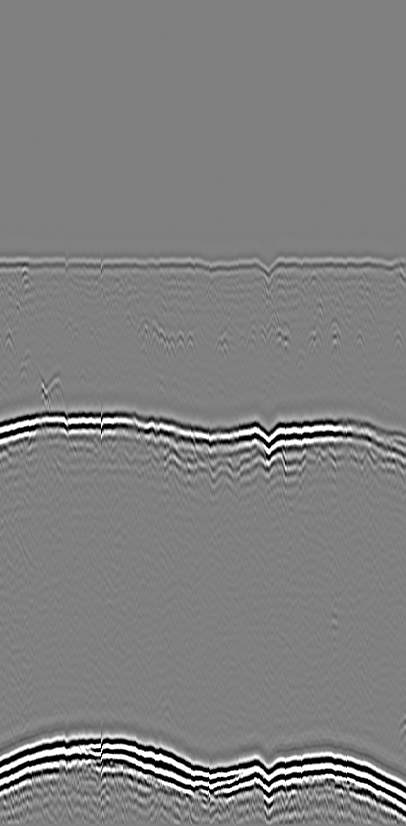fault: (250, 407, 287, 482), (250, 249, 286, 294)
